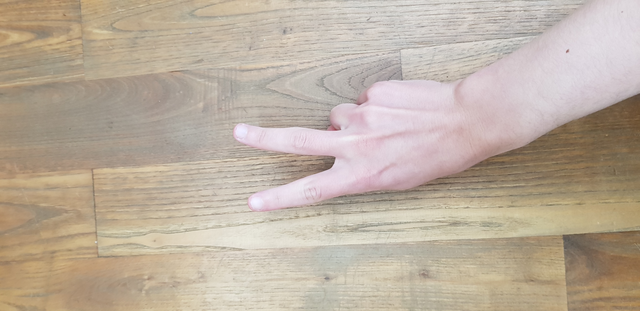Scissors: (226, 66, 509, 224)
